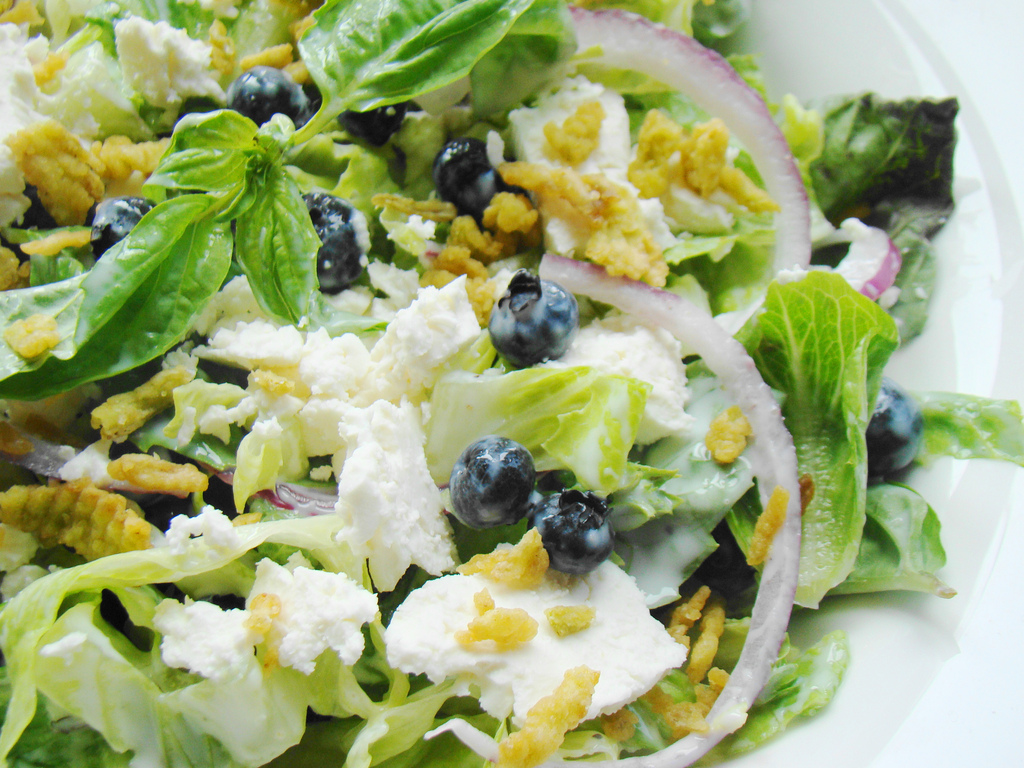chopped lettuce: (3, 1, 496, 399), (515, 281, 936, 578), (1, 552, 448, 768)
